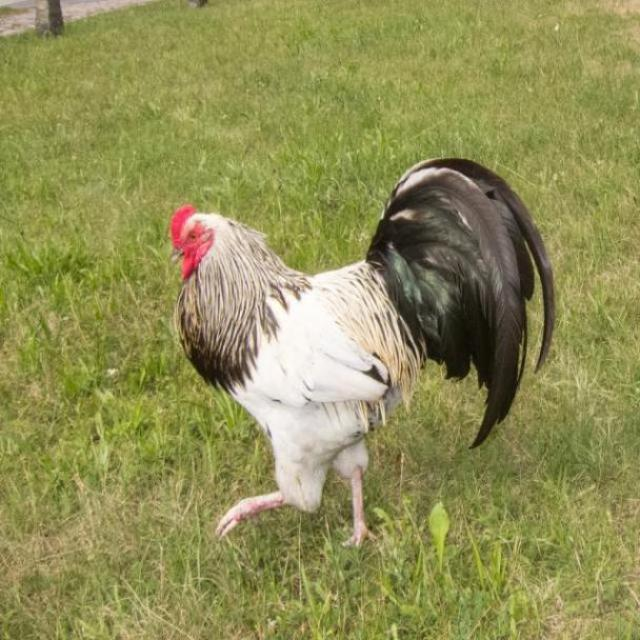Chicken: (154, 176, 464, 543)
